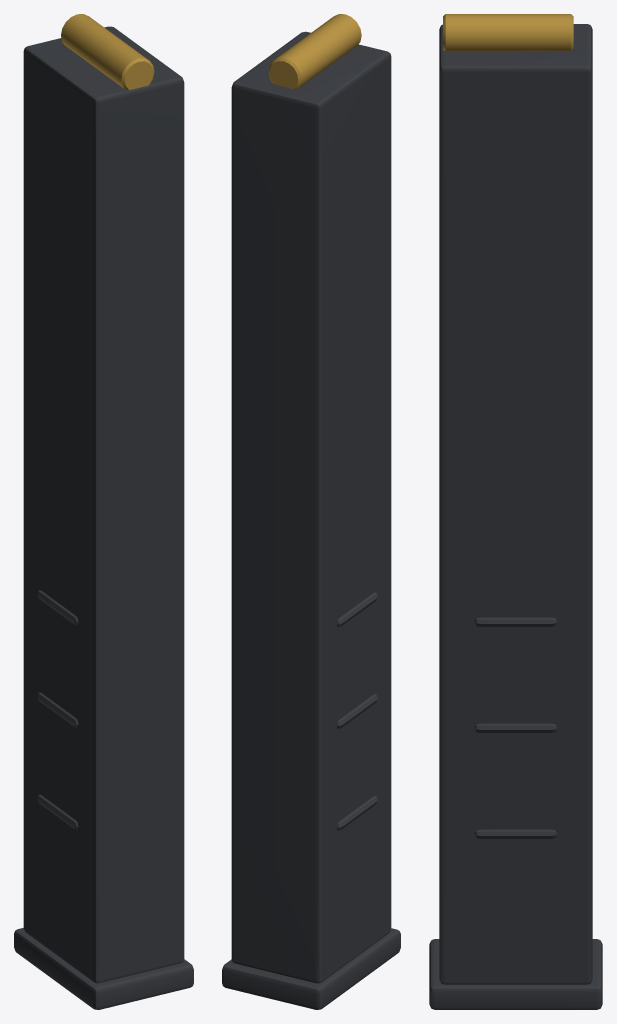
Rendered from mod_ferret_extended_mag.glb.
The picture shows the model from 3 angles, left to right: view 1: azimuth 30°, elevation 25°; view 2: azimuth 150°, elevation 25°; view 3: azimuth 270°, elevation 25°; orthographic projection. The views are drawn at different scales.
Parts seen in each view (by area): view 1: Magazine, MagazineRound; view 2: Magazine, MagazineRound; view 3: Magazine, MagazineRound.
Boxes of the visible parts, <box> form: Magazine: <box>14,26,193,1009</box>; MagazineRound: <box>61,14,154,90</box>; Magazine: <box>222,31,400,1009</box>; MagazineRound: <box>268,14,361,89</box>; Magazine: <box>429,24,602,1009</box>; MagazineRound: <box>443,14,573,50</box>.
Bounding box in the file's own units: 0.0244 × 0.2164 × 0.035.
